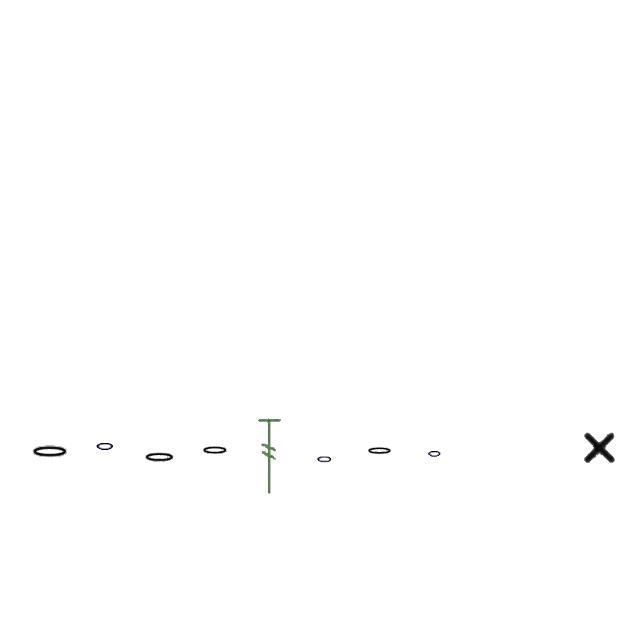half_double: (256, 416, 284, 498)
slip_stitch: (582, 428, 618, 466)
treble: (30, 444, 70, 460), (144, 452, 176, 464), (95, 439, 115, 453), (201, 446, 229, 456), (366, 446, 394, 456), (316, 453, 334, 465), (428, 448, 442, 460)
